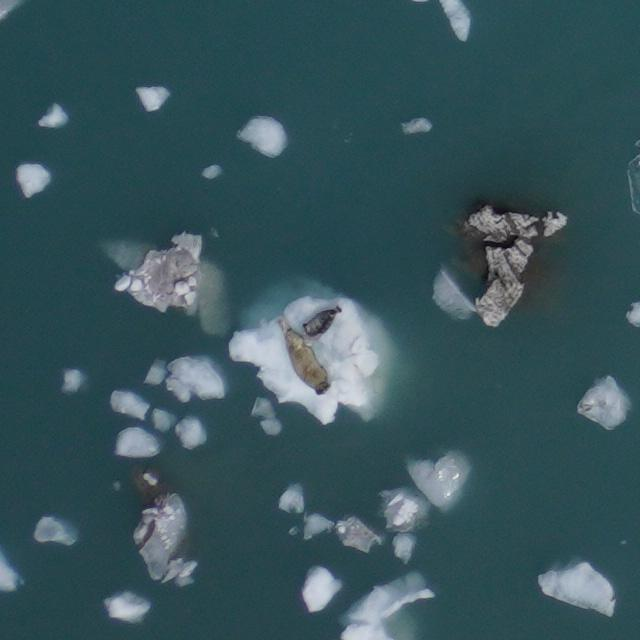seal: (267, 311, 337, 403), (296, 303, 352, 348)
